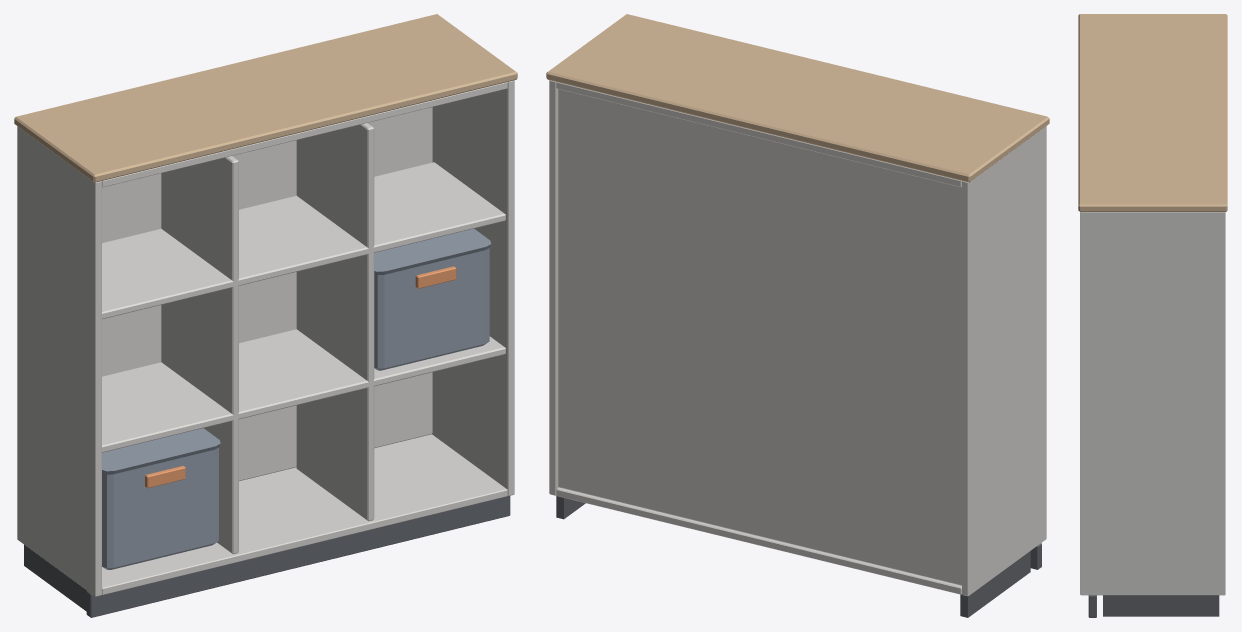
Rendered from downtown-office-interiors-cube-storage-personal-bf0c0bfa__17008.glb.
3 renders of one model, left to right at view 1: azimuth 30°, elevation 25°; view 2: azimuth 150°, elevation 25°; view 3: azimuth 270°, elevation 25°, orthographic. The views are drawn at different scales.
Parts seen in each view (by area): view 1: cube-storage-personal; view 2: cube-storage-personal; view 3: cube-storage-personal.
Boxes of the visible parts, left/top/right/bottom form: cube-storage-personal: left=14, top=14, right=517, bottom=617; cube-storage-personal: left=546, top=14, right=1049, bottom=617; cube-storage-personal: left=1078, top=14, right=1227, bottom=617.
Size of the model in its own units: 1.09 by 1.1 by 0.36.
